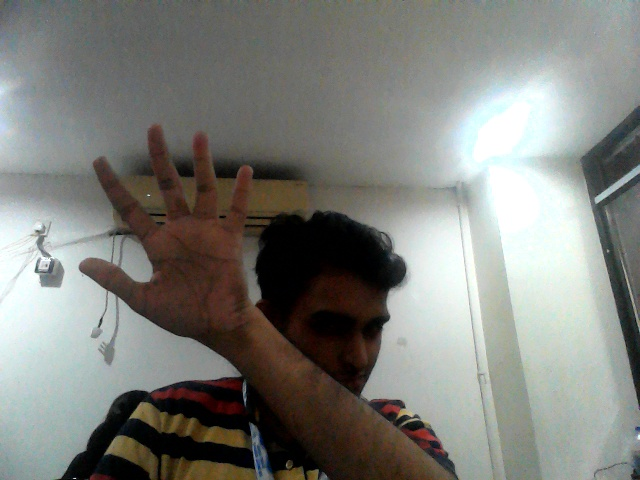palm: (68, 121, 258, 343)
